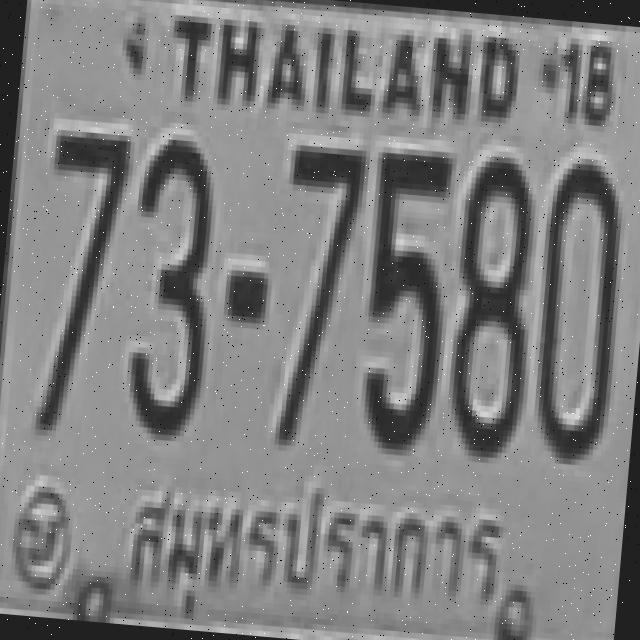0: (526, 156, 626, 456)
3: (116, 131, 220, 437)
5: (353, 144, 453, 448), (364, 143, 454, 324)
7: (264, 138, 364, 444), (30, 123, 132, 401), (268, 138, 366, 416), (36, 123, 132, 333), (37, 124, 132, 310)
8: (440, 148, 540, 453)
SamutPrakan: (114, 468, 514, 632)
